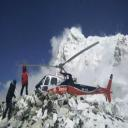helicopter: (19, 42, 113, 105)
